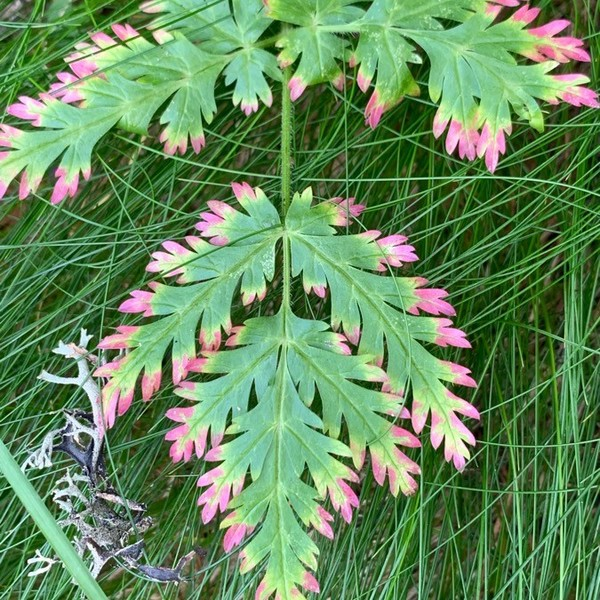obstacle: (39, 24, 531, 546)
